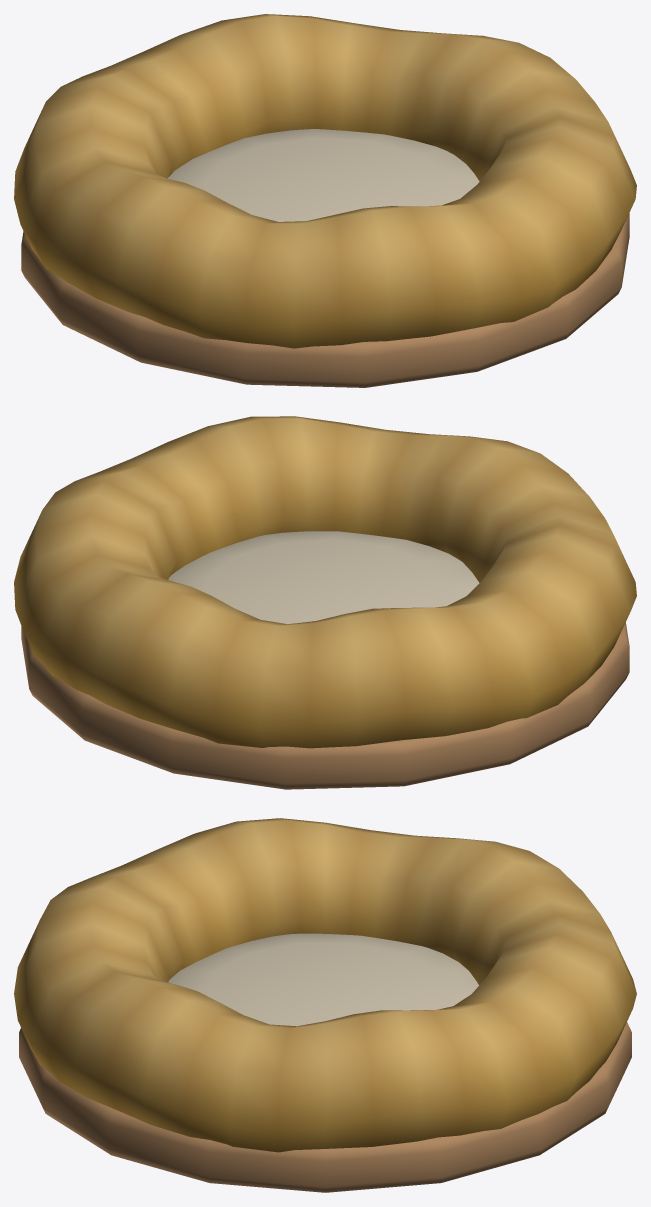
Rendered from cat_bed.glb.
The picture shows the model from 3 angles, top to bottom: view 1: azimuth 30°, elevation 25°; view 2: azimuth 150°, elevation 25°; view 3: azimuth 270°, elevation 25°; orthographic projection.
Parts seen in each view (by area): view 1: cat_bed; view 2: cat_bed; view 3: cat_bed.
Part boxes in pixels (x1,y1,x2,y2): cat_bed: (14,14,636,387); cat_bed: (14,416,636,789); cat_bed: (14,818,636,1192).
Bounding box in the file's own units: 0.61 × 0.166 × 0.61.
